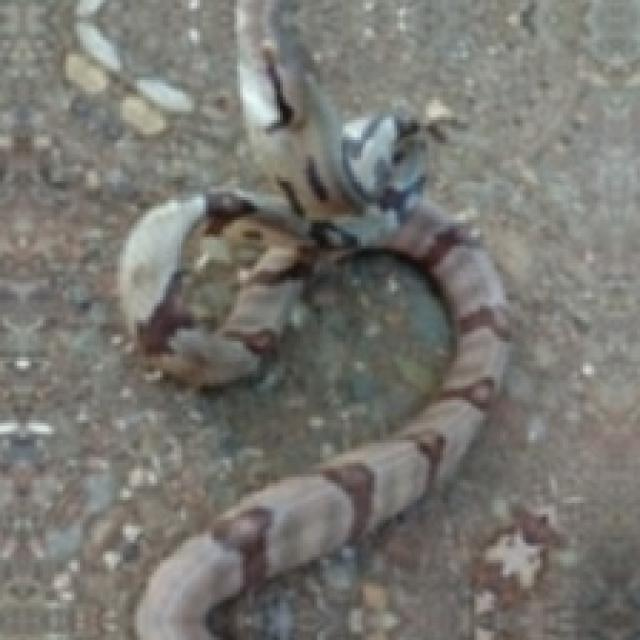dog-toothed cat snake: (117, 0, 506, 637)
